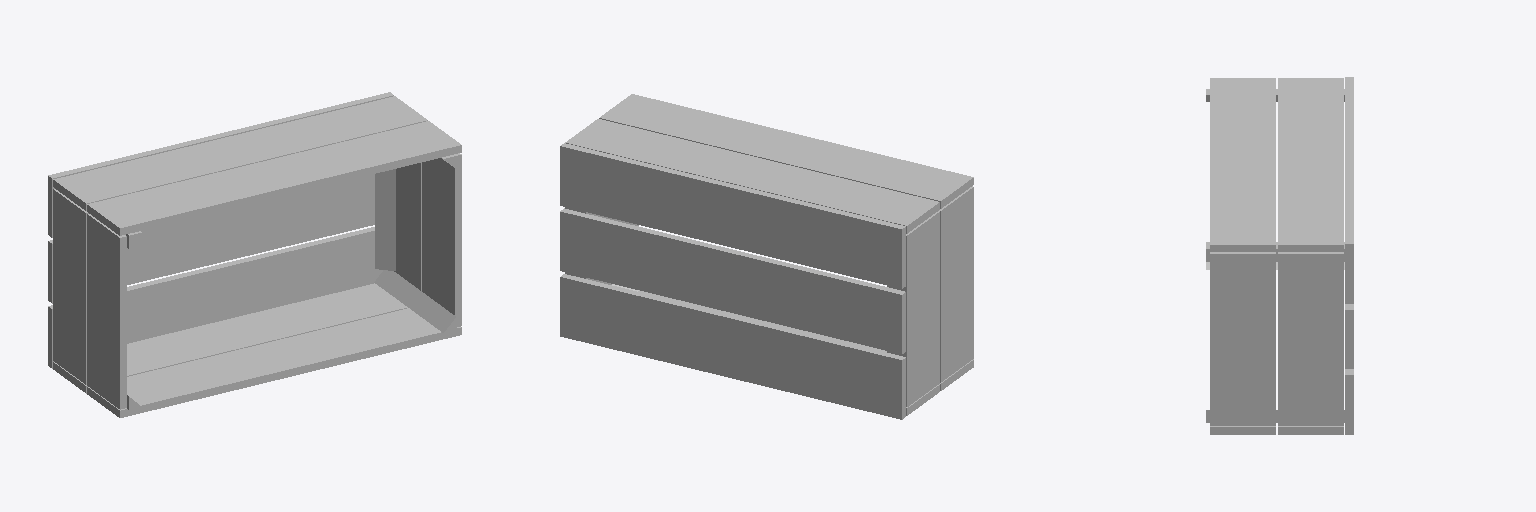
3 renders of one model, left to right at view 1: azimuth 30°, elevation 25°; view 2: azimuth 150°, elevation 25°; view 3: azimuth 270°, elevation 25°, orthographic.
Parts seen in each view (by area): view 1: 14028_wood_fruit_crate_SG; view 2: 14028_wood_fruit_crate_SG; view 3: 14028_wood_fruit_crate_SG.
Boxes of the visible parts, <box> form: 14028_wood_fruit_crate_SG: <box>48,92,461,417</box>; 14028_wood_fruit_crate_SG: <box>560,94,973,419</box>; 14028_wood_fruit_crate_SG: <box>1206,77,1353,434</box>.
Bounding box in the file's own units: 60 × 31.93 × 22.43.